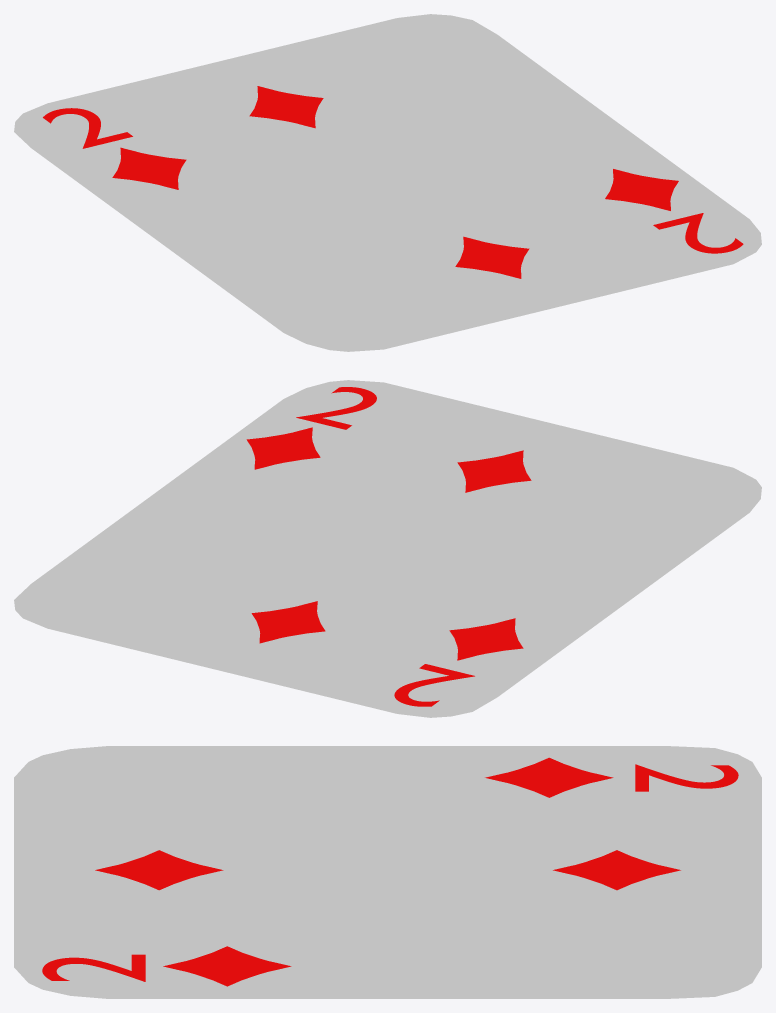
The picture shows the model from 3 angles, top to bottom: view 1: azimuth 30°, elevation 25°; view 2: azimuth 150°, elevation 25°; view 3: azimuth 270°, elevation 25°; orthographic projection. The views are drawn at different scales.
Parts seen in each view (by area): view 1: 2ofDiamonds, Plane.006_Materia, Plane.009_Materia, Plane.010_Materia, Plane.005_Materia, Font.004_Bla_Blac.001, Font.003_Bla_Blac.001; view 2: 2ofDiamonds, Plane.009_Materia, Plane.005_Materia, Plane.006_Materia, Plane.010_Materia, Font.003_Bla_Blac.001, Font.004_Bla_Blac.001; view 3: 2ofDiamonds, Plane.005_Materia, Plane.006_Materia, Plane.009_Materia, Plane.010_Materia, Font.004_Bla_Blac.001, Font.003_Bla_Blac.001.
Part boxes in pixels (x1,y1,x2,y2): 2ofDiamonds: [14, 14, 761, 351]; Plane.006_Materia: [112, 147, 186, 189]; Plane.009_Materia: [249, 86, 323, 128]; Plane.010_Materia: [455, 236, 529, 278]; Plane.005_Materia: [605, 169, 678, 210]; Font.004_Bla_Blac.001: [653, 213, 743, 253]; Font.003_Bla_Blac.001: [43, 108, 132, 148]; 2ofDiamonds: [14, 380, 761, 717]; Plane.009_Materia: [251, 601, 325, 643]; Plane.005_Materia: [246, 427, 320, 469]; Plane.006_Materia: [449, 618, 523, 660]; Plane.010_Materia: [457, 450, 531, 492]; Font.003_Bla_Blac.001: [394, 664, 474, 706]; Font.004_Bla_Blac.001: [296, 387, 376, 429]; 2ofDiamonds: [14, 746, 761, 998]; Plane.005_Materia: [163, 946, 291, 986]; Plane.006_Materia: [485, 757, 613, 797]; Plane.009_Materia: [553, 850, 680, 890]; Plane.010_Materia: [95, 850, 223, 890]; Font.004_Bla_Blac.001: [42, 954, 145, 981]; Font.003_Bla_Blac.001: [635, 764, 738, 791].
Bounding box in the file's own units: 1.6 × 0.00974 × 2.
